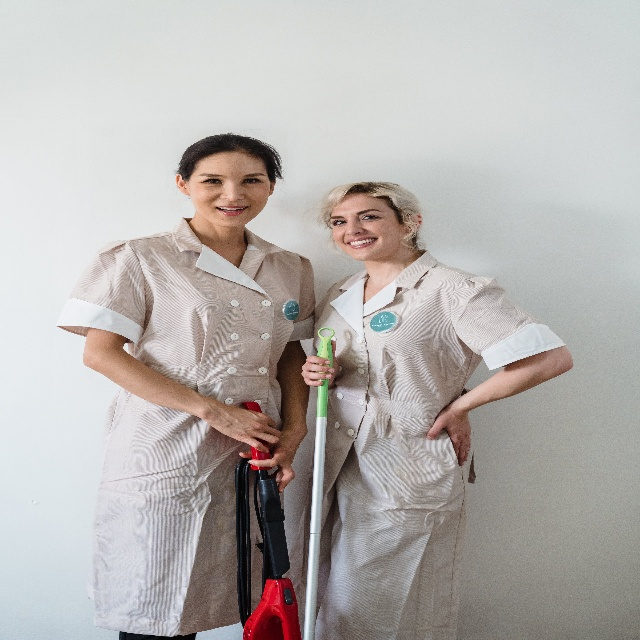Sin_guantes: (216, 399, 281, 452), (424, 398, 473, 460), (238, 444, 294, 494), (301, 334, 341, 389)
